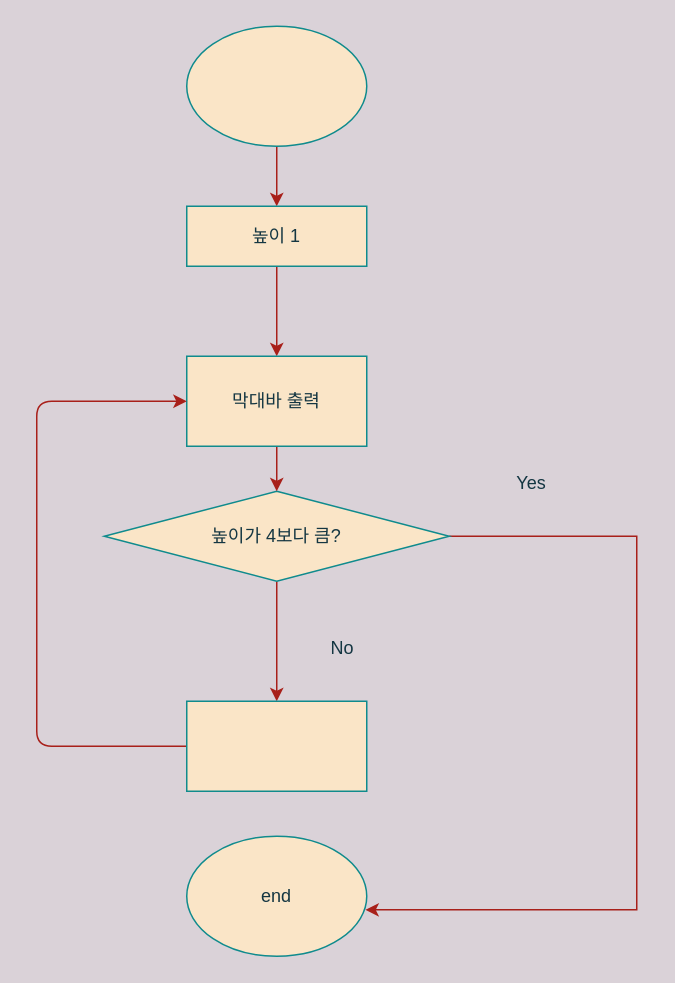
This 675x983 diagram has some shape labels left out. The shapes that lost their labels are listed below. From the top down, each one's centre as x and y in pixels, then its label:
At [276,85]: "막대바 제조 시작".
At [276,745]: "높이 + 1".
